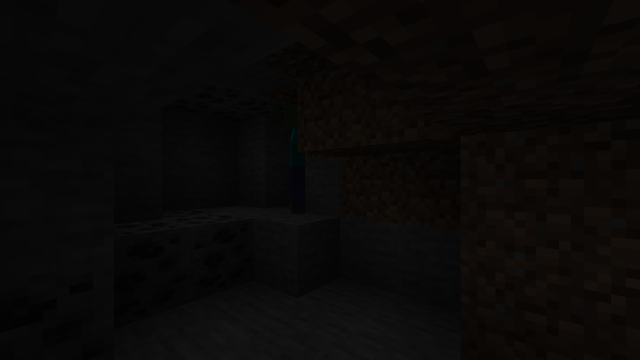zombies: (275, 105, 308, 214)
